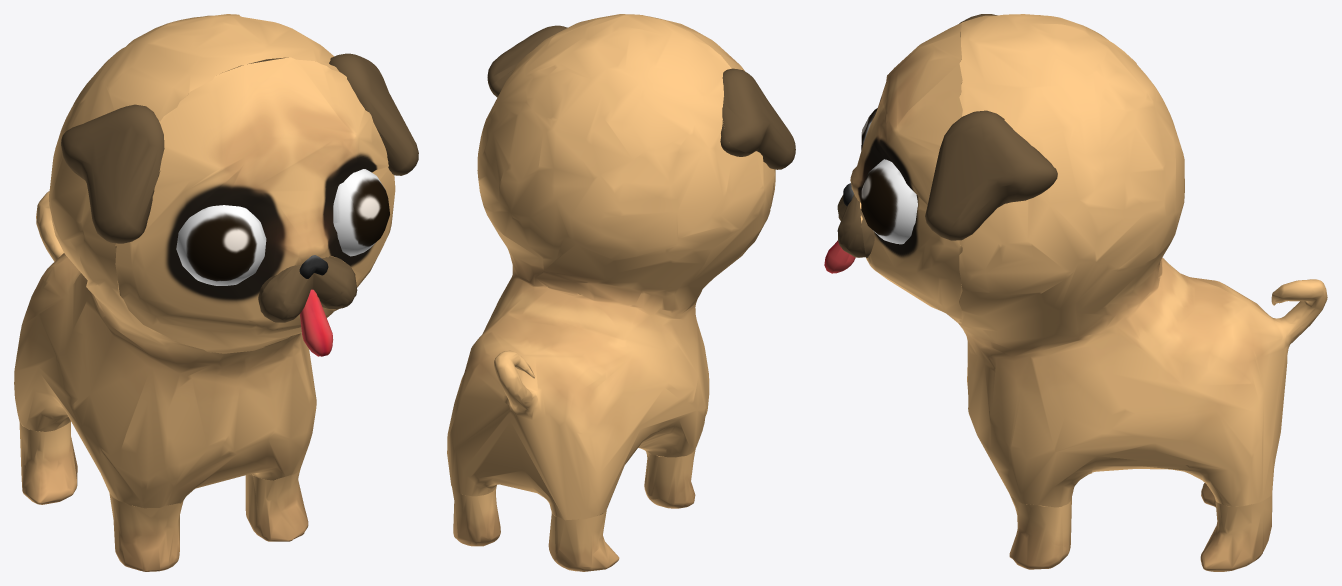
Rendered from perrocute.glb.
3 views of the same model, side by side, from view 1: azimuth 30°, elevation 25°; view 2: azimuth 150°, elevation 25°; view 3: azimuth 270°, elevation 25° (orthographic). The views are drawn at different scales.
Parts seen in each view (by area): view 1: NurbsPath, Cube.003, Sphere.001, Cube.001, Cube.002; view 2: NurbsPath, Cube.003; view 3: NurbsPath, Cube.003, Sphere.001, Cube.001, Cube.002.
Part boxes in pixels (<box>): NurbsPath: <box>14,14,395,571</box>; Cube.003: <box>61,53,418,243</box>; Sphere.001: <box>176,169,389,285</box>; Cube.001: <box>258,256,357,322</box>; Cube.002: <box>299,289,333,356</box>; NurbsPath: <box>447,14,775,571</box>; Cube.003: <box>487,25,795,169</box>; NurbsPath: <box>850,14,1327,571</box>; Cube.003: <box>925,14,1057,240</box>; Sphere.001: <box>861,108,917,244</box>; Cube.001: <box>837,194,874,257</box>; Cube.002: <box>824,240,855,273</box>.
Size of the model in its own units: 0.1582 by 0.2516 by 0.2264.
Materials: 4 (4 with a texture image).
